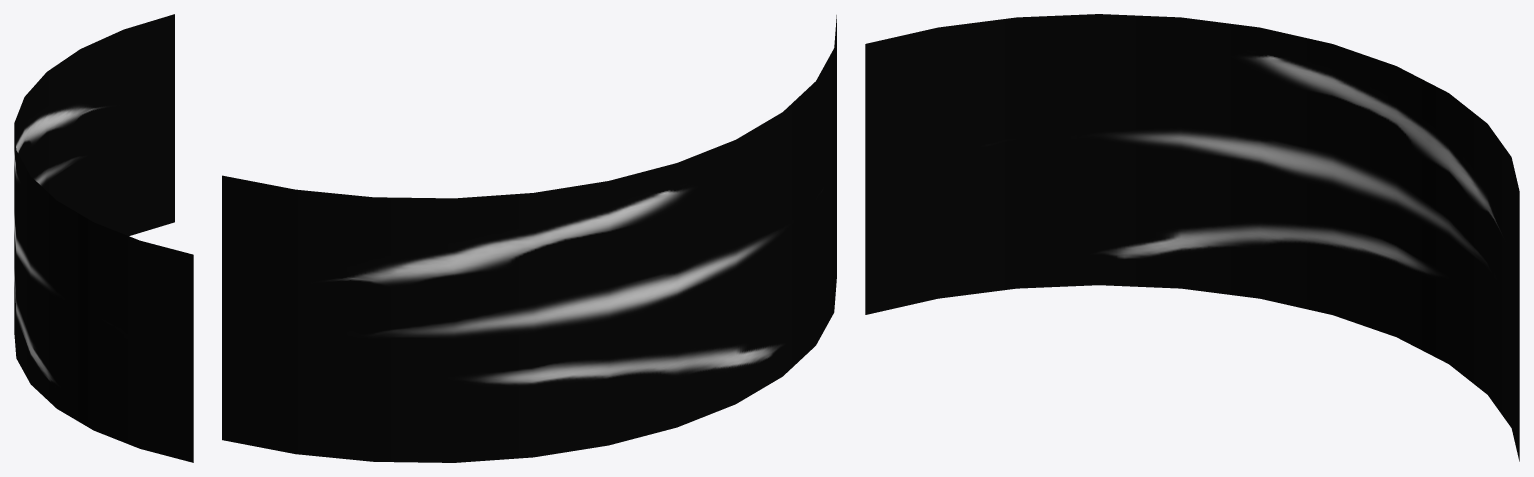
The model's file is m_042_wolfman_skill1.FBX.
3 renders of one model, left to right at view 1: azimuth 30°, elevation 25°; view 2: azimuth 150°, elevation 25°; view 3: azimuth 270°, elevation 25°, orthographic. The views are drawn at different scales.
Parts seen in each view (by area): view 1: Object001; view 2: Object001; view 3: Object001.
Boxes of the visible parts, bbox=[...] form: Object001: bbox=[14, 14, 193, 462]; Object001: bbox=[222, 15, 836, 462]; Object001: bbox=[865, 14, 1519, 461].
Size of the model in its own units: 68.59 by 48.79 by 107.
